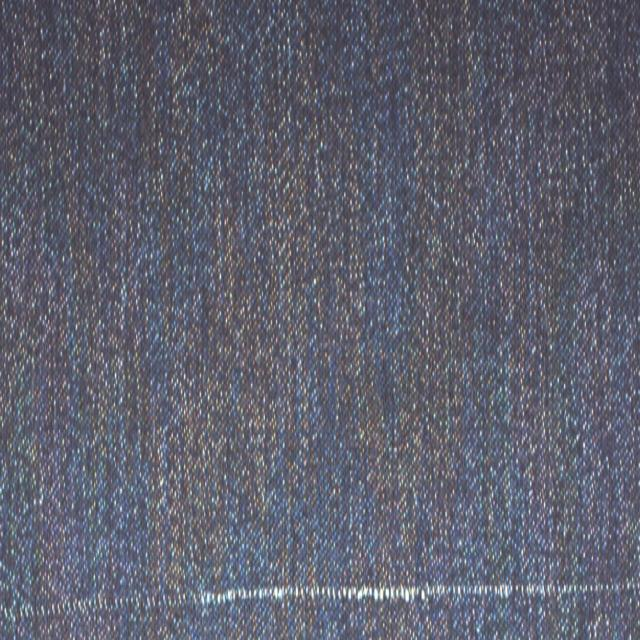Line: (12, 575, 640, 622)
